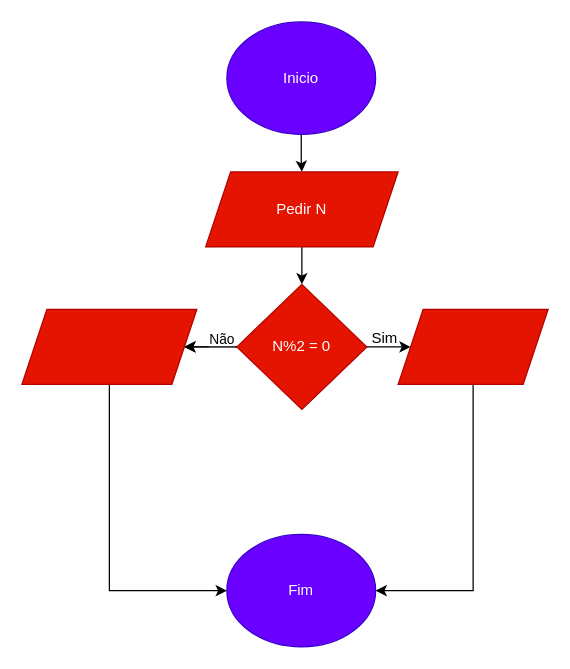
The diagram is 570 pixels wide and 669 high, and some of its shapes have lost their labels. Here are the shapes that lost their labels. From the top down, the centre of each, then its label:
(109,346): Escrever "N é impar"
(472,346): Escrever "N é Par"
